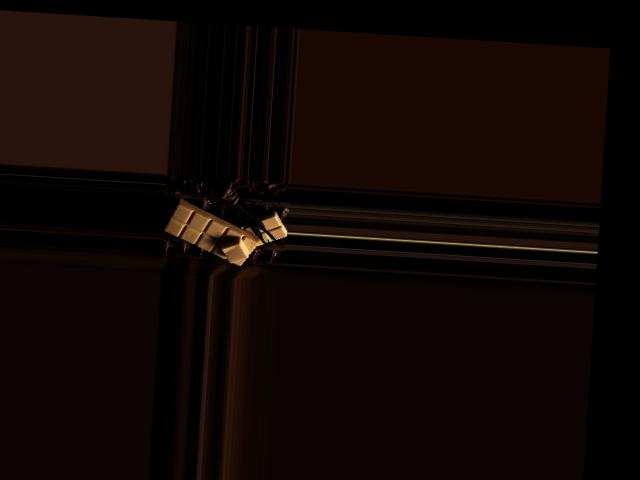chocolate: (163, 199, 264, 266)
